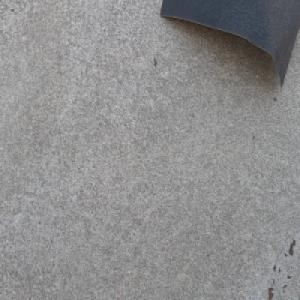PaintChip: (159, 0, 300, 88)
